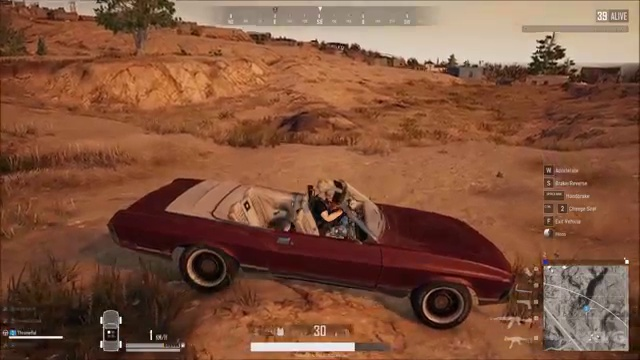Player: (292, 164, 361, 232)
